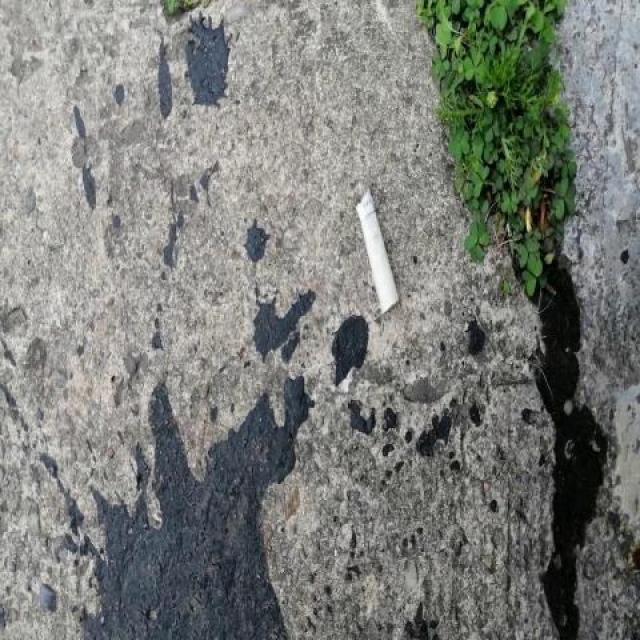non-organic waste: (353, 179, 403, 321)
